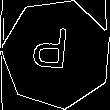P_S: (36, 27, 78, 80)
